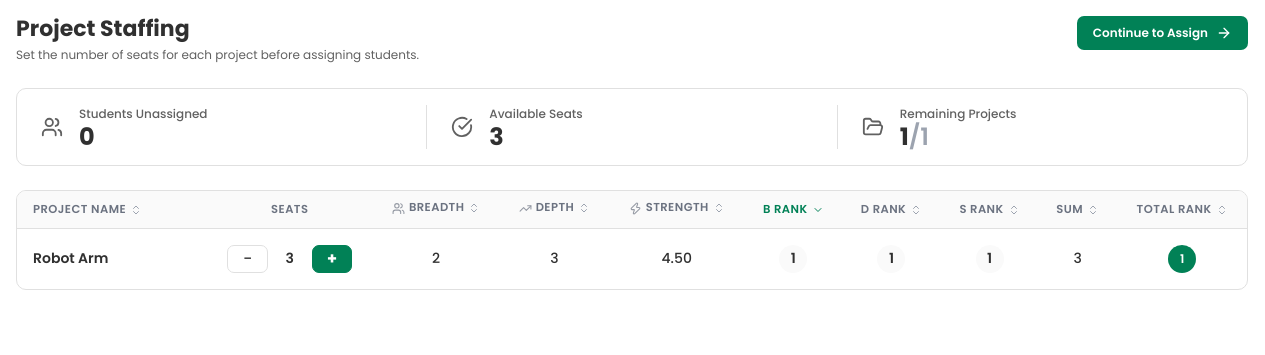
Scenario: Staffing › clears the error when the next seat change starts
Click the button named "Add seat to Robot Arm".
click(332, 259)  # box left=312, top=245, right=352, bottom=273
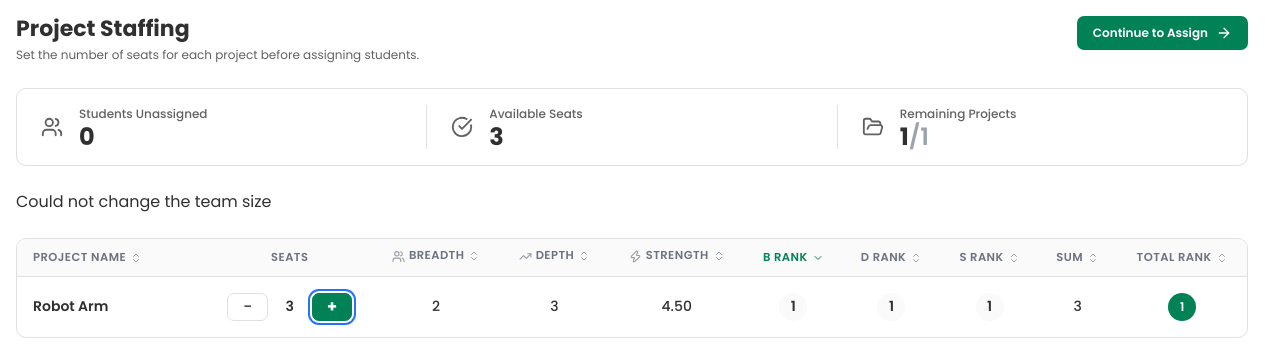
Expected: the cell named "Add seat to Robot Arm" shows "3", left=286, top=296, right=294, bottom=316
Expected: the text "Could not change the team size" is shown, left=16, top=190, right=272, bottom=213
Click the button named "Add seat to Robot Arm".
click(332, 307)  # box left=312, top=293, right=352, bottom=321
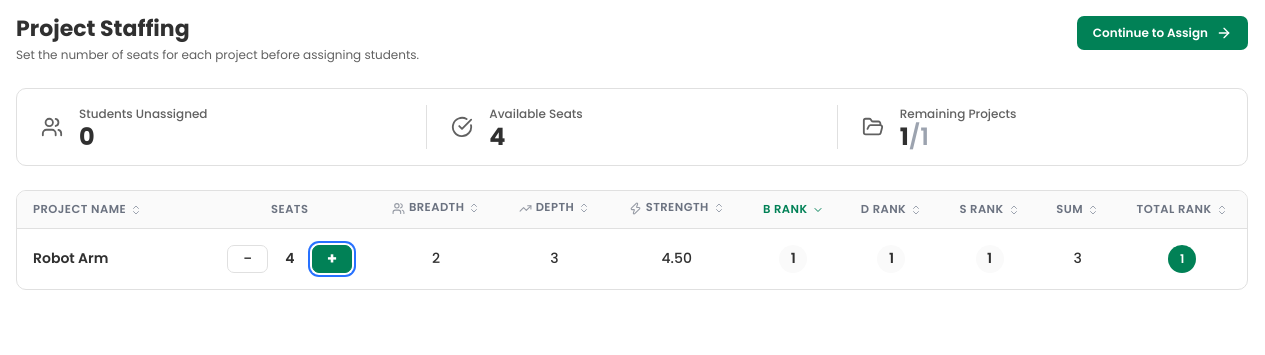
Expected: the cell named "Add seat to Robot Arm" shows "4", left=285, top=248, right=294, bottom=268
Expected: the text "Could not change the team size" is gone
